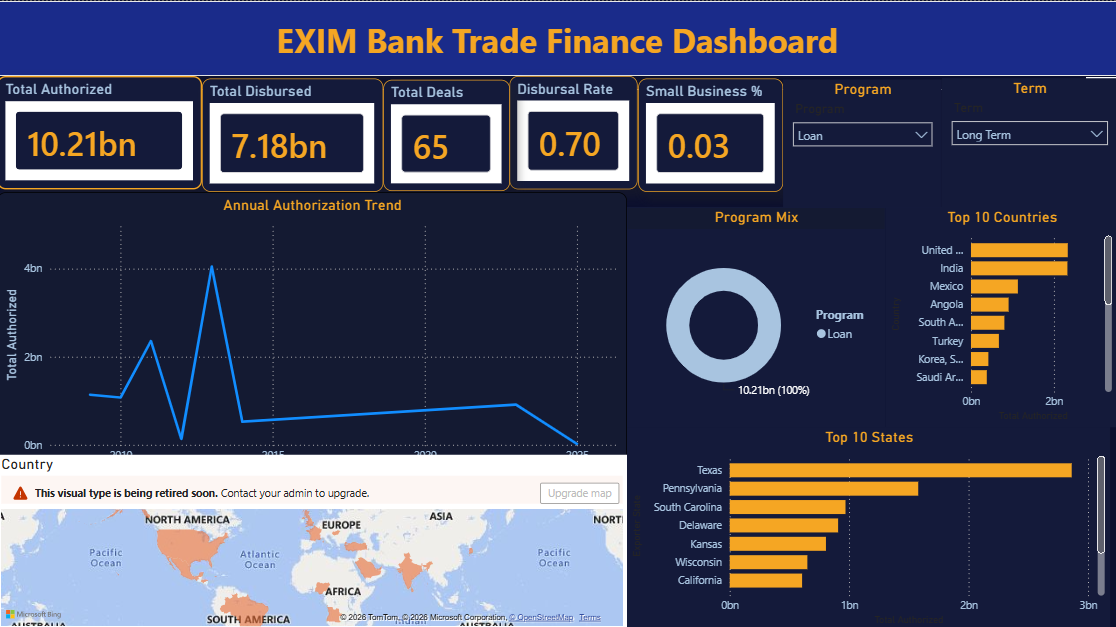

This screenshot's page, from the dashboard's own definition file:
{"tool":"powerbi","page":{"name":"Page 1","canvas":[1280,720],"ordinal":0},"visuals":[{"type":"group","id":"g1","title":"Group 1","box":[0,0,1280,101.7],"z":0},{"type":"shape","box":[0,0,1280,85.7],"z":501,"group":"g1"},{"type":"cardVisual","title":"Total Authorized","fields":{"Data":["Data Gov+-+FY25+Q4.Total Authorized"]},"box":[0,86.2,234.5,129.3],"z":1000},{"type":"textbox","box":[305.2,13.7,669,88],"z":1001,"group":"g1"},{"type":"cardVisual","title":"Total Disbursed","fields":{"Data":["Data Gov+-+FY25+Q4.Total Disbursed"]},"box":[234.5,87.9,206.9,129.3],"z":2000},{"type":"cardVisual","title":"Disbursal Rate","fields":{"Data":["Data Gov+-+FY25+Q4.Disbursal Rate"]},"box":[586.2,86.2,146.6,129.3],"z":3000},{"type":"cardVisual","title":"Total Deals","fields":{"Data":["Data Gov+-+FY25+Q4.Total Deals"]},"box":[441.4,89.7,144.8,127.6],"z":4000},{"type":"cardVisual","title":"Small Business %","fields":{"Data":["Data Gov+-+FY25+Q4.Small Biz %"]},"box":[732.8,87.9,165.5,129.3],"z":5000},{"type":"lineChart","title":"Annual Authorization Trend","fields":{"Category":["Data Gov+-+FY25+Q4.Fiscal Year"],"Y":["Data Gov+-+FY25+Q4.Total Authorized"]},"box":[0,218.3,719.7,336.6],"z":6000},{"type":"donutChart","title":"Program Mix","fields":{"Category":["Data Gov+-+FY25+Q4.Program"],"Y":["Data Gov+-+FY25+Q4.Total Authorized"]},"box":[720.3,236.4,294.8,251.3],"z":7000},{"type":"clusteredBarChart","title":"Top 10 Countries","fields":{"Category":["Data Gov+-+FY25+Q4.Country"],"Y":["Data Gov+-+FY25+Q4.Total Authorized"]},"box":[1015.1,236.4,265,251.3],"z":8000},{"type":"slicer","title":"Term","fields":{"Values":["Data Gov+-+FY25+Q4.Term"]},"box":[1079.3,87.9,200,148.3],"z":9000},{"type":"slicer","title":"Program","fields":{"Values":["Data Gov+-+FY25+Q4.Program"]},"box":[898.3,89.7,181,146.6],"z":10000},{"type":"clusteredBarChart","title":"Top 10 States","fields":{"Category":["Data Gov+-+FY25+Q4.Exporter State"],"Y":["Data Gov+-+FY25+Q4.Total Authorized"]},"box":[720.3,487.6,552.3,232.6],"z":11000},{"type":"filledMap","fields":{"Category":["Data Gov+-+FY25+Q4.Country"]},"box":[0,545.7,719.9,174.2],"z":12000}]}

Visuals, with their boxes in screenshot pixels (x1, y1, x2, y2), scaled from the page's 1280x720 canvas onto the 1116x627 screenshot:
"Group 1" group: select_region(0, 0, 1115, 89)
shape: select_region(0, 0, 1115, 75)
"Total Authorized" cardVisual: select_region(0, 75, 204, 188)
textbox: select_region(266, 12, 849, 89)
"Total Disbursed" cardVisual: select_region(204, 77, 385, 189)
"Disbursal Rate" cardVisual: select_region(511, 75, 639, 188)
"Total Deals" cardVisual: select_region(385, 78, 511, 189)
"Small Business %" cardVisual: select_region(639, 77, 783, 189)
"Annual Authorization Trend" lineChart: select_region(0, 190, 627, 483)
"Program Mix" donutChart: select_region(628, 206, 885, 425)
"Top 10 Countries" clusteredBarChart: select_region(885, 206, 1115, 425)
"Term" slicer: select_region(941, 77, 1115, 206)
"Program" slicer: select_region(783, 78, 941, 206)
"Top 10 States" clusteredBarChart: select_region(628, 425, 1110, 626)
filledMap - Data Gov+-+FY25+Q4.Country: select_region(0, 475, 628, 626)
